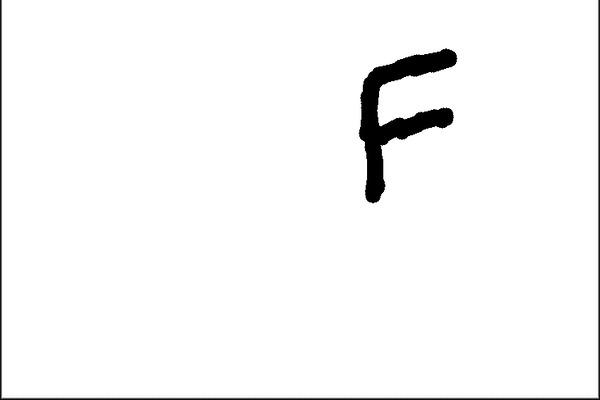F: (350, 43, 463, 208)
